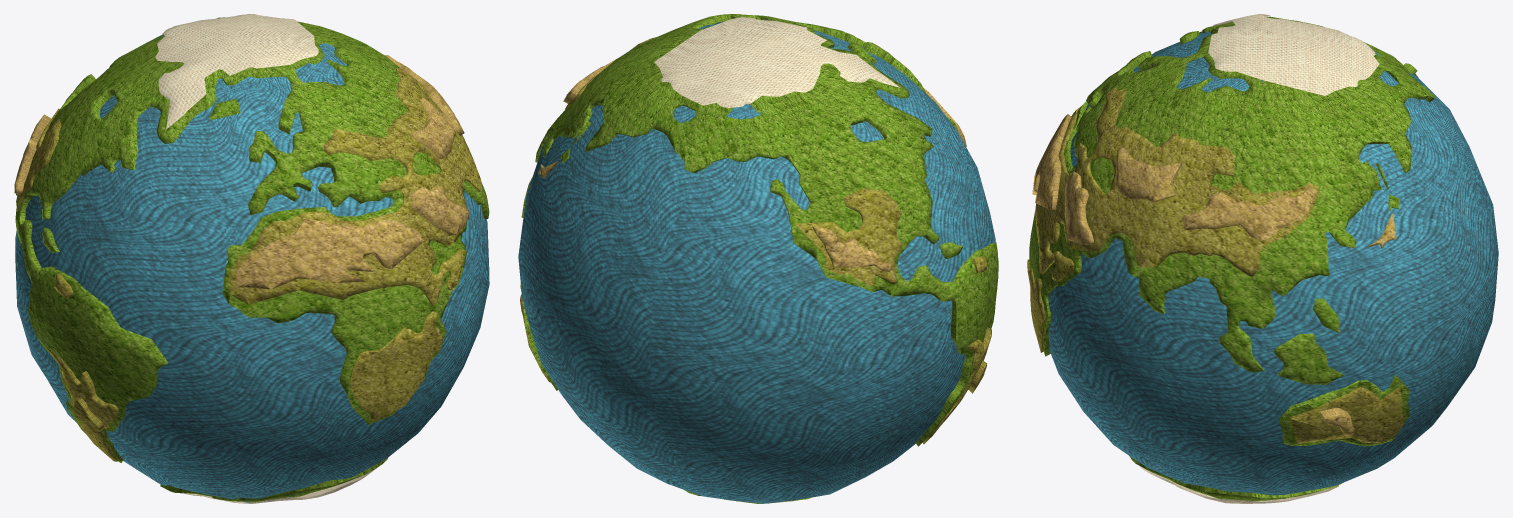
The model's file is earth.obj.
3 views of the same model, side by side, from view 1: azimuth 30°, elevation 25°; view 2: azimuth 150°, elevation 25°; view 3: azimuth 270°, elevation 25° (orthographic).
Visible parts, largest first — view 1: model19192, model8222, model3242, model1162, model19982, model2882, model362, model1562, model5662, model8312, model502, model822; view 2: model19192, model8222, model19982, model5662, model502, model362; view 3: model19192, model8222, model3242, model19982, model4942, model822, model1162, model1562, model14052, model14312, model8312, model2882 (+2 smaller).
Boxes of the visible parts, left/top/right/bottom form: model19192: left=15, top=35, right=489, bottom=502; model8222: left=15, top=17, right=489, bottom=462; model3242: left=228, top=68, right=482, bottom=305; model1162: left=236, top=185, right=469, bottom=289; model19982: left=155, top=14, right=376, bottom=503; model2882: left=350, top=311, right=443, bottom=421; model362: left=46, top=347, right=118, bottom=461; model1562: left=412, top=97, right=456, bottom=158; model5662: left=16, top=108, right=61, bottom=211; model8312: left=160, top=458, right=387, bottom=502; model502: left=14, top=114, right=51, bottom=194; model822: left=385, top=55, right=464, bottom=135; model19192: left=518, top=21, right=995, bottom=503; model8222: left=535, top=14, right=998, bottom=446; model19982: left=654, top=17, right=900, bottom=502; model5662: left=794, top=188, right=902, bottom=286; model502: left=538, top=161, right=892, bottom=271; model362: left=922, top=327, right=991, bottom=444; model19192: left=1048, top=31, right=1498, bottom=498; model8222: left=1029, top=16, right=1434, bottom=372; model3242: left=1035, top=88, right=1318, bottom=281; model19982: left=1139, top=14, right=1379, bottom=503; model4942: left=1290, top=386, right=1404, bottom=443; model822: left=1182, top=188, right=1316, bottom=240; model1162: left=1032, top=114, right=1093, bottom=244; model1562: left=1115, top=147, right=1182, bottom=202; model14052: left=1274, top=333, right=1343, bottom=384; model14312: left=1278, top=374, right=1409, bottom=446; model8312: left=1129, top=456, right=1343, bottom=500; model2882: left=1027, top=259, right=1045, bottom=352.
Bounding box in the file's own units: 1.53 × 1.54 × 1.49.
5 materials, 5 textured.
